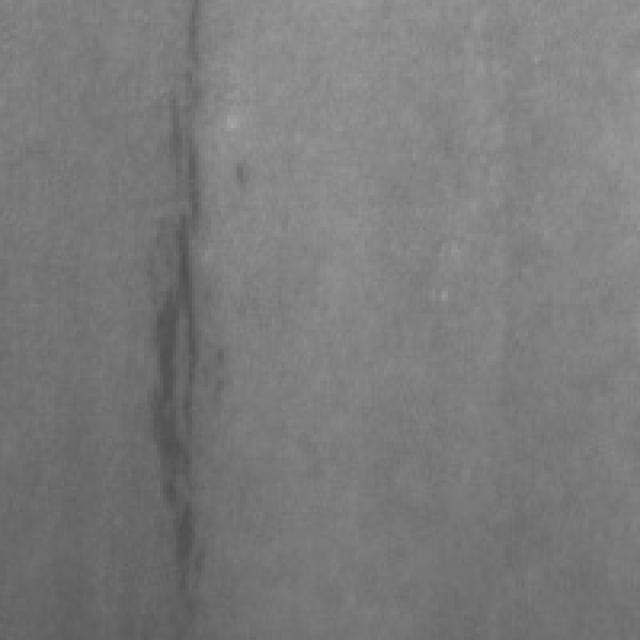inclusion: (132, 90, 215, 627), (150, 0, 208, 224)
